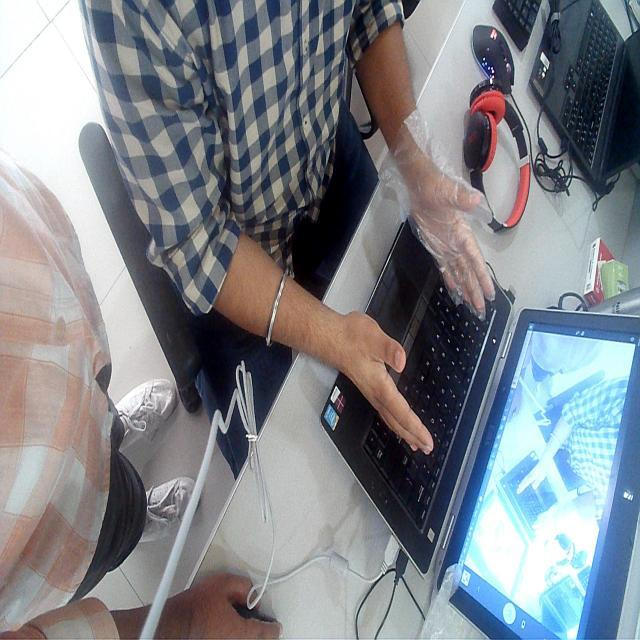with_gloves: (390, 130, 539, 350)
without_gloves: (304, 289, 448, 484)
